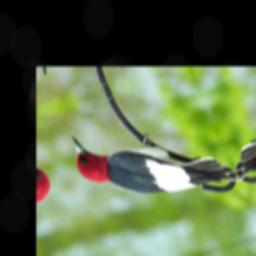Woodpecker: (63, 96, 240, 226)
